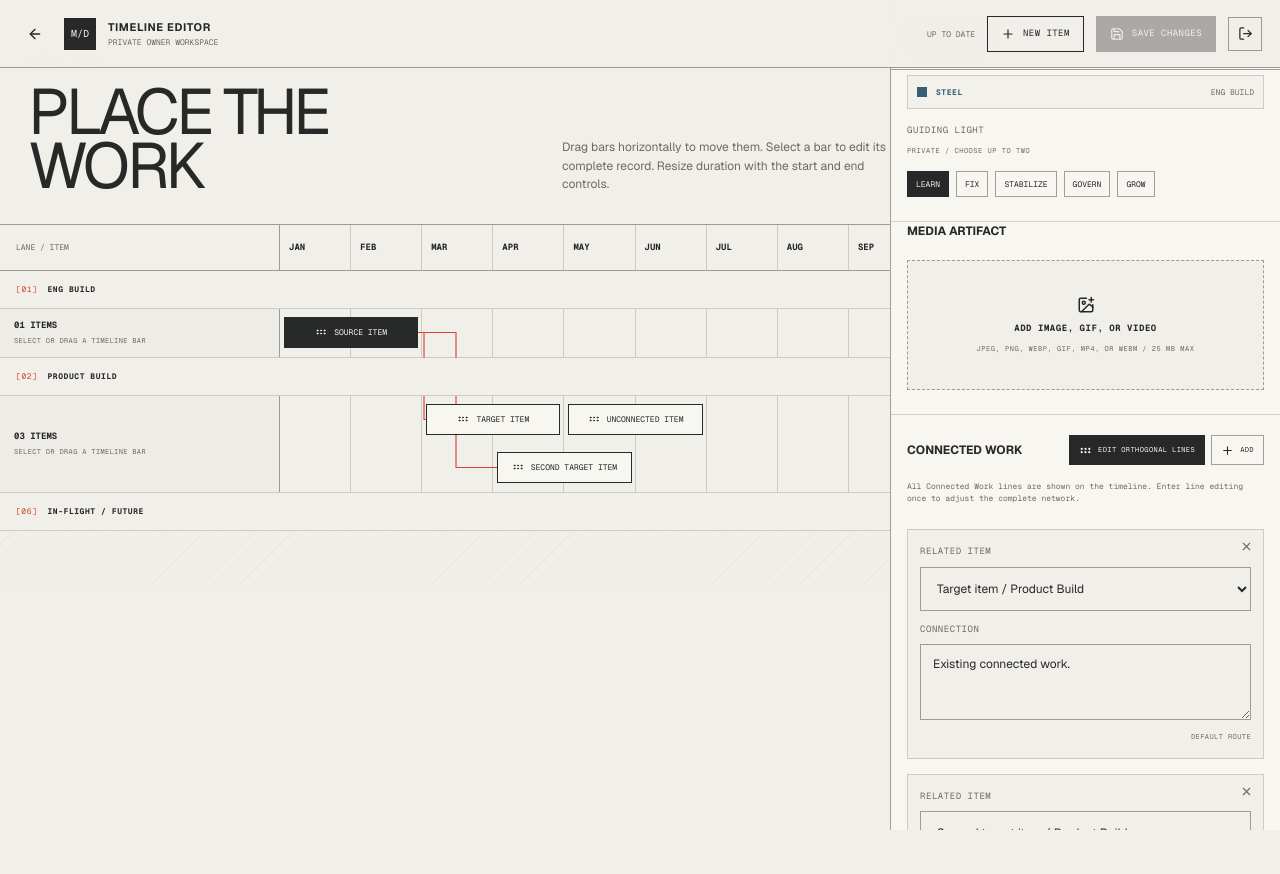
Test case: TimelineEditor orthogonal connector workflow › shows the selected item’s complete network and opens one item-level line editor
(page scrolled)
Check: the icon named "Connected Work lines for Source item" is shown, box [0,271,890,590]
Step 1. Click the button with aria-label "Edit all Connected Work lines" → (1137, 450), box [1069,435,1205,465]
(page scrolled)
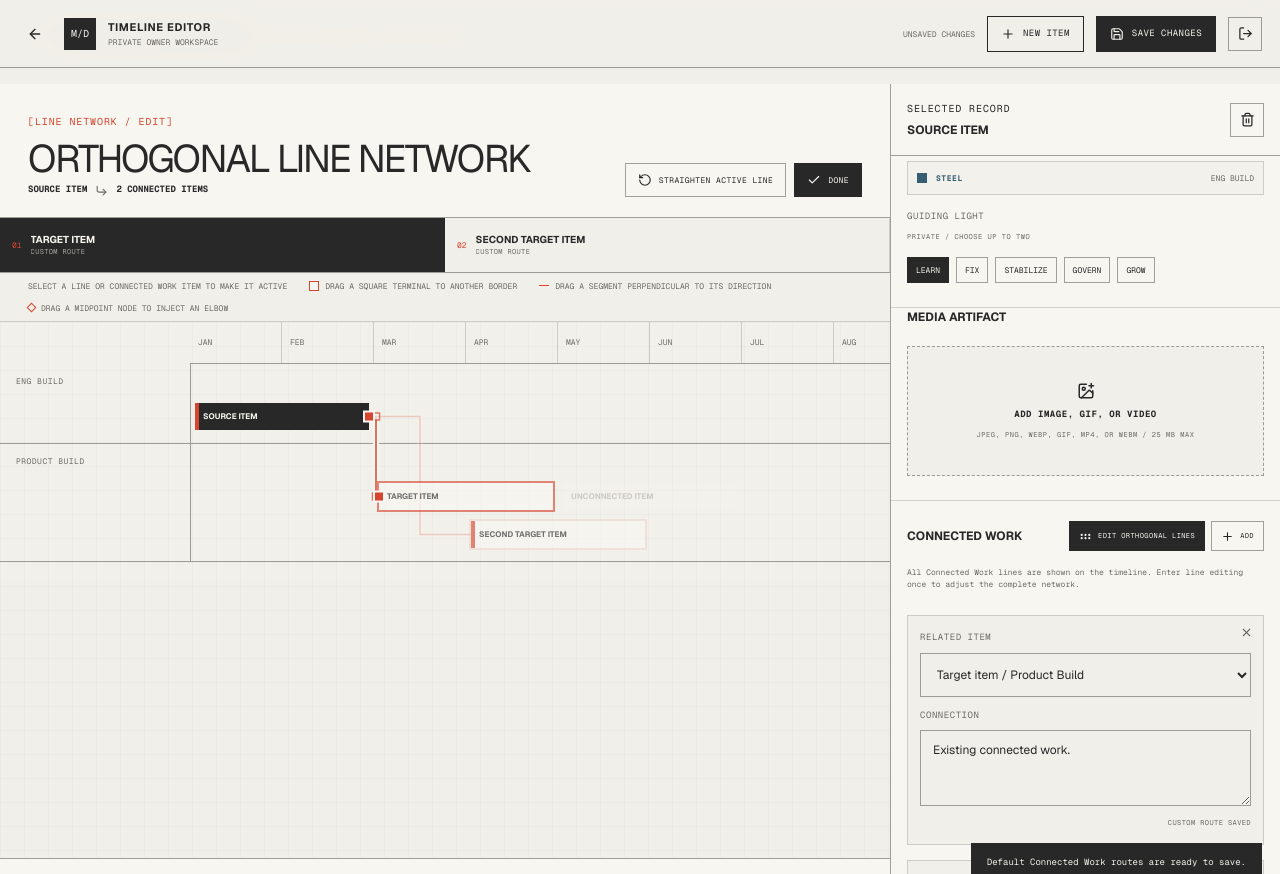
Check: the button with class "connector-board-item" showing "Source item" is shown, box [195,403,369,430]
Check: the icon with class "connector-editor-controls" is shown, box [0,322,890,580]
